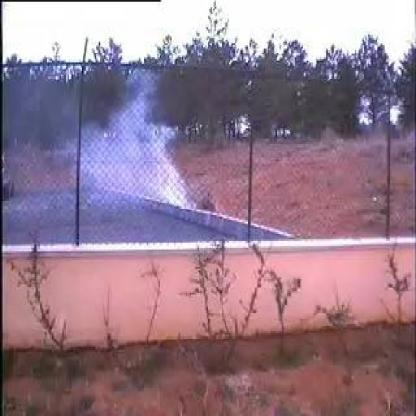-: (80, 67, 196, 212)
